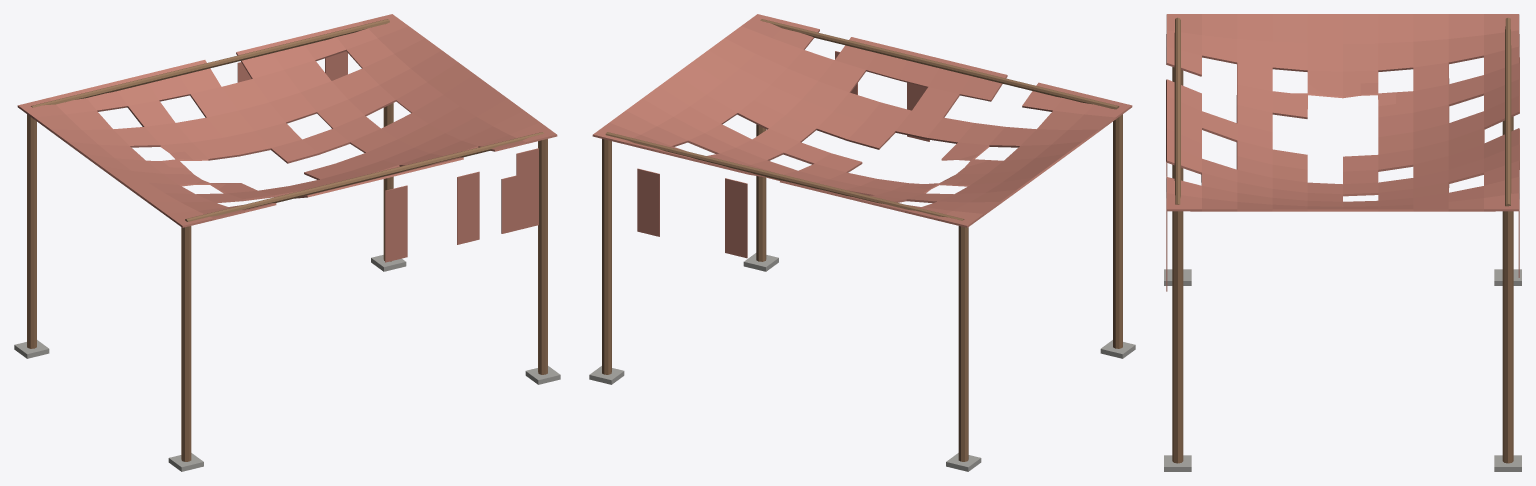
Rendered from kit_canopy_ruin.glb.
The picture shows the model from 3 angles, left to right: view 1: azimuth 30°, elevation 25°; view 2: azimuth 150°, elevation 25°; view 3: azimuth 270°, elevation 25°; orthographic projection. The views are drawn at different scales.
Visible parts, largest first — view 1: cloth_torn, frame.003, cloth_strips; view 2: cloth_torn, frame.003, cloth_strips; view 3: cloth_torn, frame.003.
Boxes of the visible parts, box(x1,y1,x2,y2) form: cloth_torn: box(17, 14, 557, 227); frame.003: box(14, 19, 560, 471); cloth_strips: box(237, 51, 538, 262); cloth_torn: box(592, 14, 1132, 227); frame.003: box(589, 19, 1135, 471); cloth_strips: box(637, 51, 929, 258); cloth_torn: box(1166, 14, 1519, 211); frame.003: box(1164, 17, 1521, 471).
Size of the model in its own units: 4.25 by 2.63 by 3.25.
